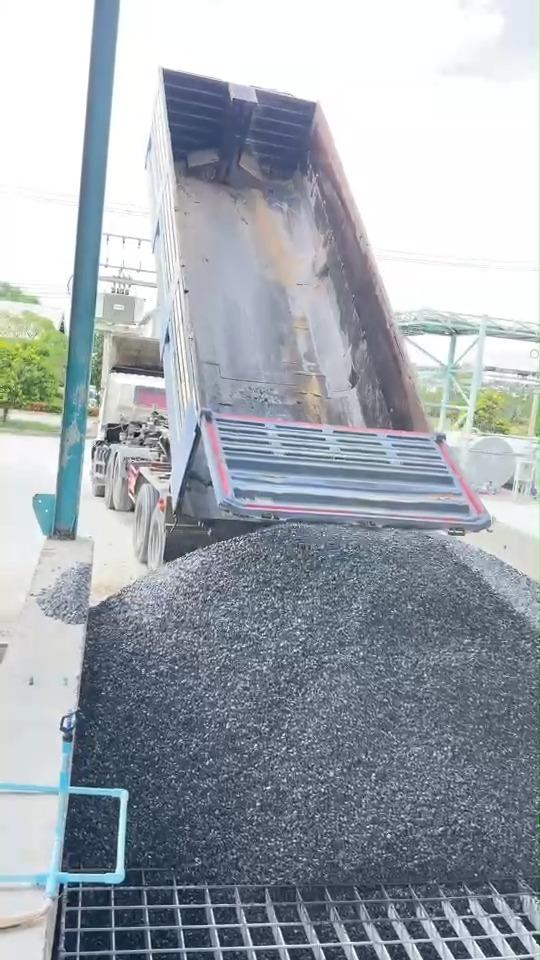gravel: (72, 526, 535, 882), (450, 539, 537, 628), (36, 562, 90, 623), (68, 800, 115, 866)
